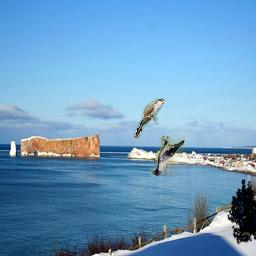Crow: (150, 136, 185, 176)
Cuckoo: (134, 98, 165, 138)
